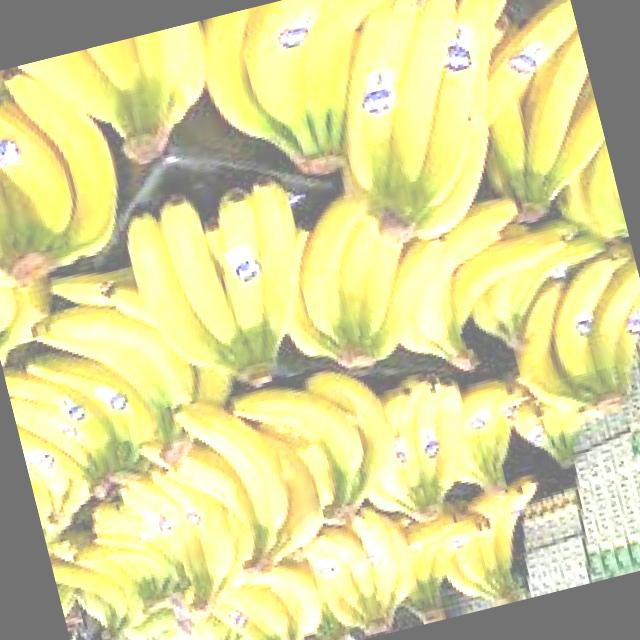Banana: (297, 0, 571, 258), (189, 0, 472, 197), (115, 168, 338, 410), (25, 248, 224, 495), (369, 184, 594, 387), (257, 174, 468, 386), (134, 378, 336, 597), (37, 453, 253, 640), (0, 52, 135, 294), (489, 239, 640, 436), (2, 342, 150, 510), (337, 374, 490, 536), (426, 476, 562, 616), (296, 500, 428, 640), (201, 552, 332, 640)
